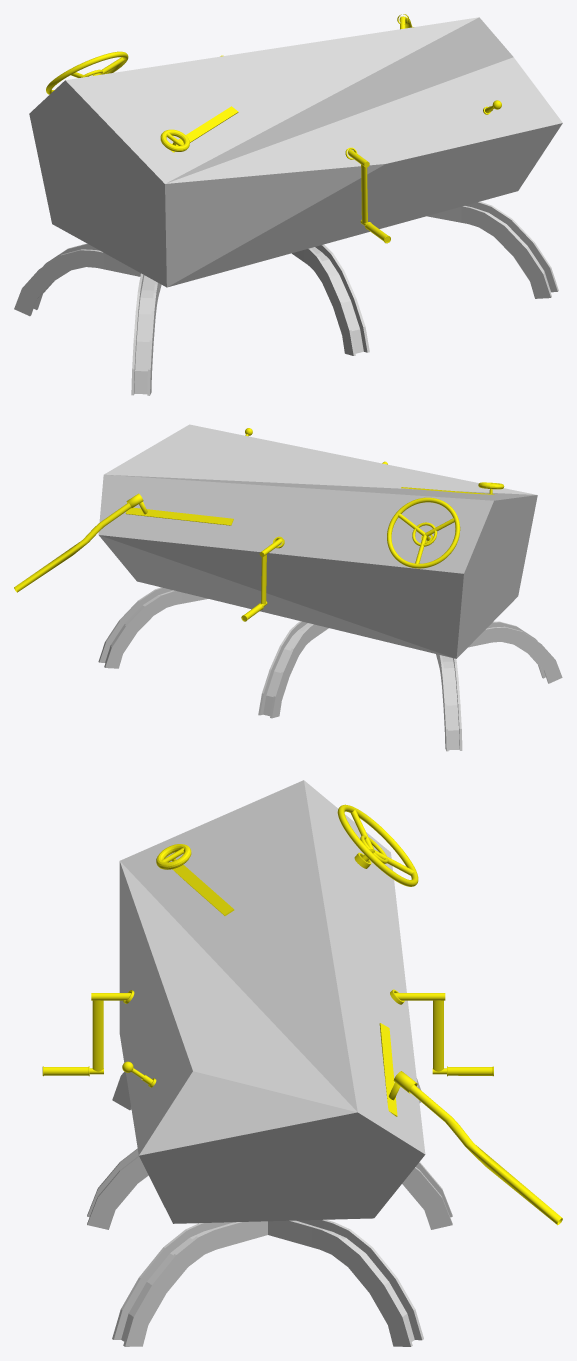
3 renders of one model, top to bottom at view 1: azimuth 30°, elevation 25°; view 2: azimuth 150°, elevation 25°; view 3: azimuth 270°, elevation 25°, orthographic. The views are drawn at different scales.
Parts seen in each view (by area): view 1: cuve.009, barre.013, barre.012, barre.016, barre.015, Inst4.018, Inst Mod.018; view 2: cuve.009, barre.014, barre.011, Inst4.018, Cylinder.041, barre.015, barre.016, Inst Mod.018; view 3: cuve.009, barre.014, barre.013, Inst4.018, Inst Mod.018, Cylinder.041, barre.012, barre.011.
Part boxes in pixels (x1,y1,x2,y2): cuve.009: (29, 17, 562, 287); barre.013: (427, 201, 558, 298); barre.012: (292, 244, 369, 355); barre.016: (14, 243, 140, 316); barre.015: (131, 273, 161, 395); Inst4.018: (46, 51, 238, 152); Inst Mod.018: (220, 55, 490, 243); cuve.009: (98, 424, 537, 658); barre.014: (98, 587, 208, 668); barre.011: (258, 621, 328, 718); Inst4.018: (387, 482, 504, 568); Cylinder.041: (14, 493, 233, 592); barre.015: (468, 621, 562, 683); barre.016: (436, 654, 462, 751); Inst Mod.018: (241, 461, 433, 621); cuve.009: (119, 780, 425, 1223); barre.014: (268, 1219, 423, 1346); barre.013: (112, 1221, 267, 1346); Inst4.018: (156, 804, 418, 915); Inst Mod.018: (42, 852, 493, 1087); Cylinder.041: (379, 1023, 562, 1225); barre.012: (87, 1148, 148, 1229); barre.011: (402, 1162, 452, 1229).
Size of the model in its own units: 2.24 by 1.21 by 1.87.
